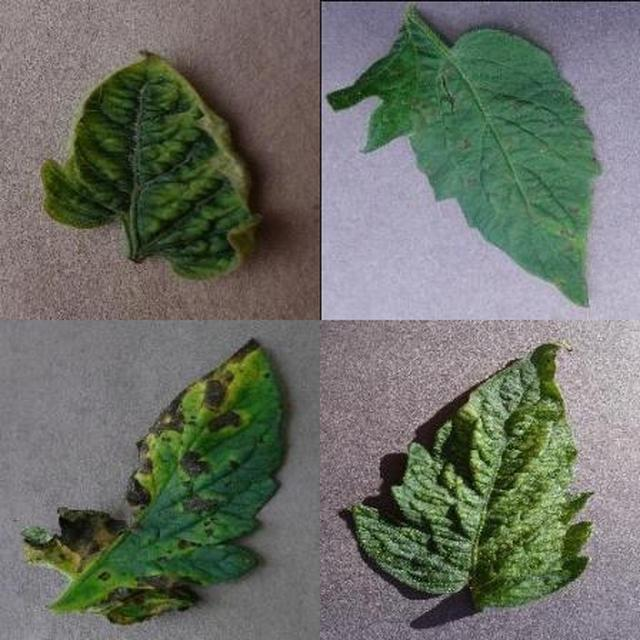Yellow Leaf Curl Virus: (214, 236, 640, 640)
